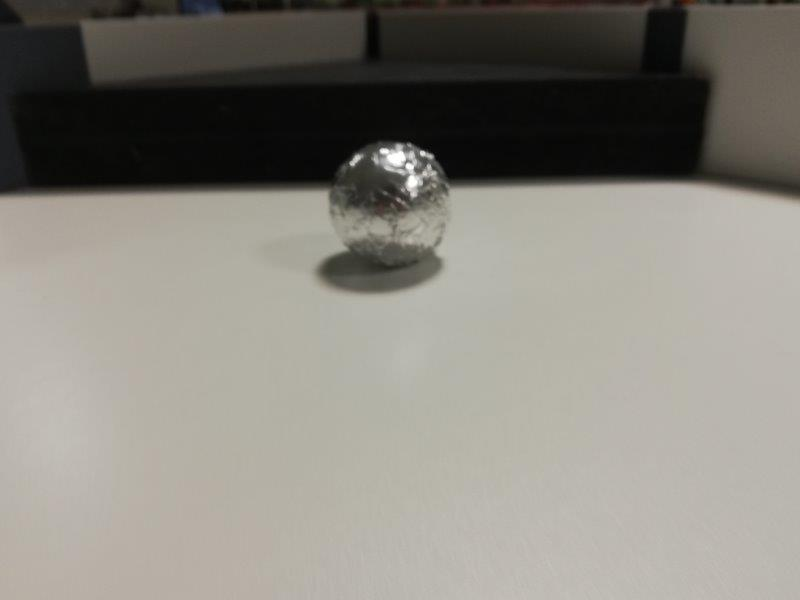bianca: (328, 139, 450, 269)
